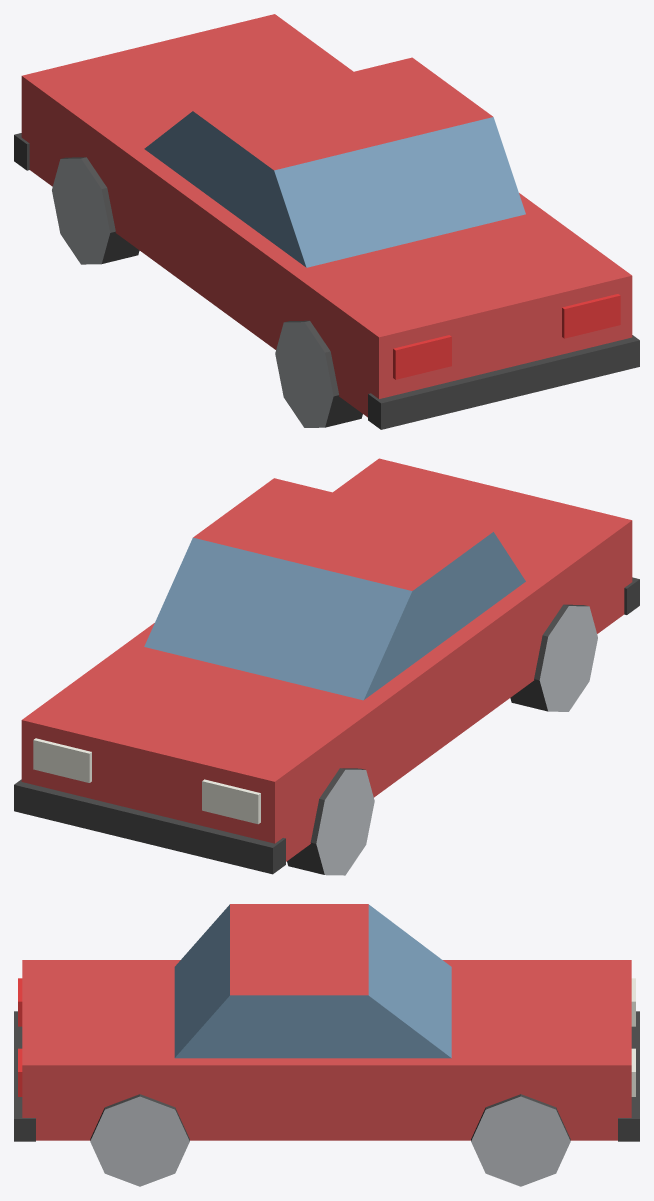
The model's file is car_sedan.glb.
3 renders of one model, top to bottom at view 1: azimuth 30°, elevation 25°; view 2: azimuth 150°, elevation 25°; view 3: azimuth 270°, elevation 25°, orthographic. The views are drawn at different scales.
Parts seen in each view (by area): view 1: car_sedan; view 2: car_sedan; view 3: car_sedan.
Boxes of the visible parts, x1,y1,x2,y2 form: car_sedan: (14, 14, 639, 429); car_sedan: (14, 458, 639, 875); car_sedan: (14, 904, 639, 1186).
Bounding box in the file's own units: 1.88 × 1.45 × 4.52.
